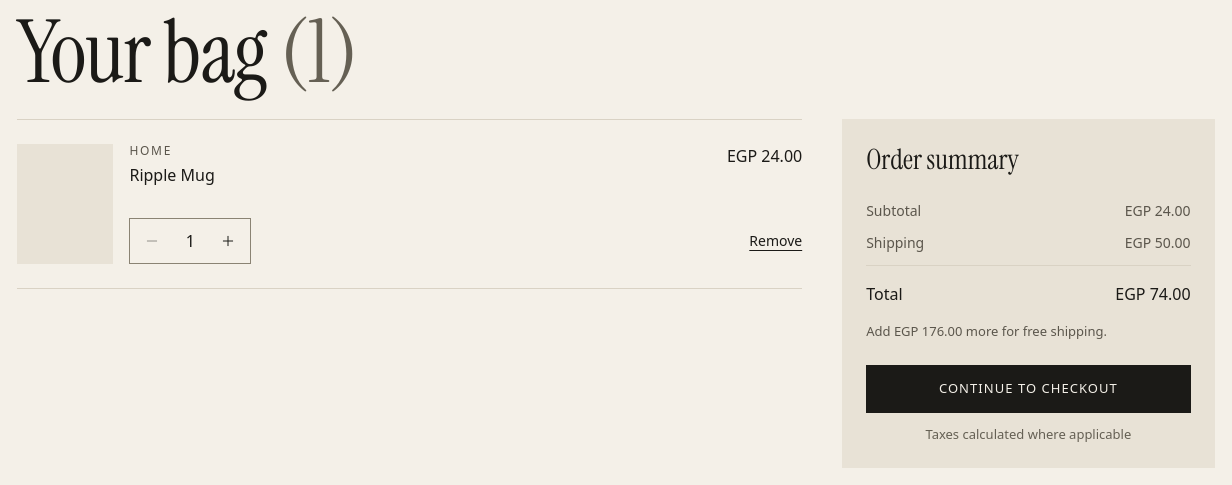
Test: CartPage interaction › removing the last product shows the empty bag and asks for no further quote
Check: the link "Ripple Mug" is shown, box [129,163,215,188]
Click the button "Remove".
click(776, 241)  # box [749,219,802,263]
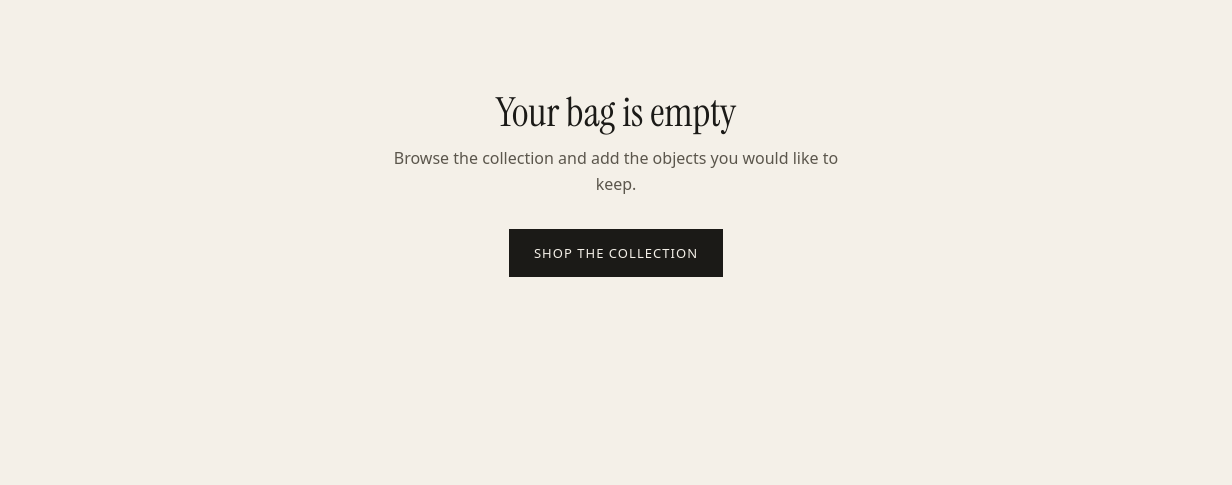
Check: the heading "Your bag is empty" is shown, box [496,90,736,134]
